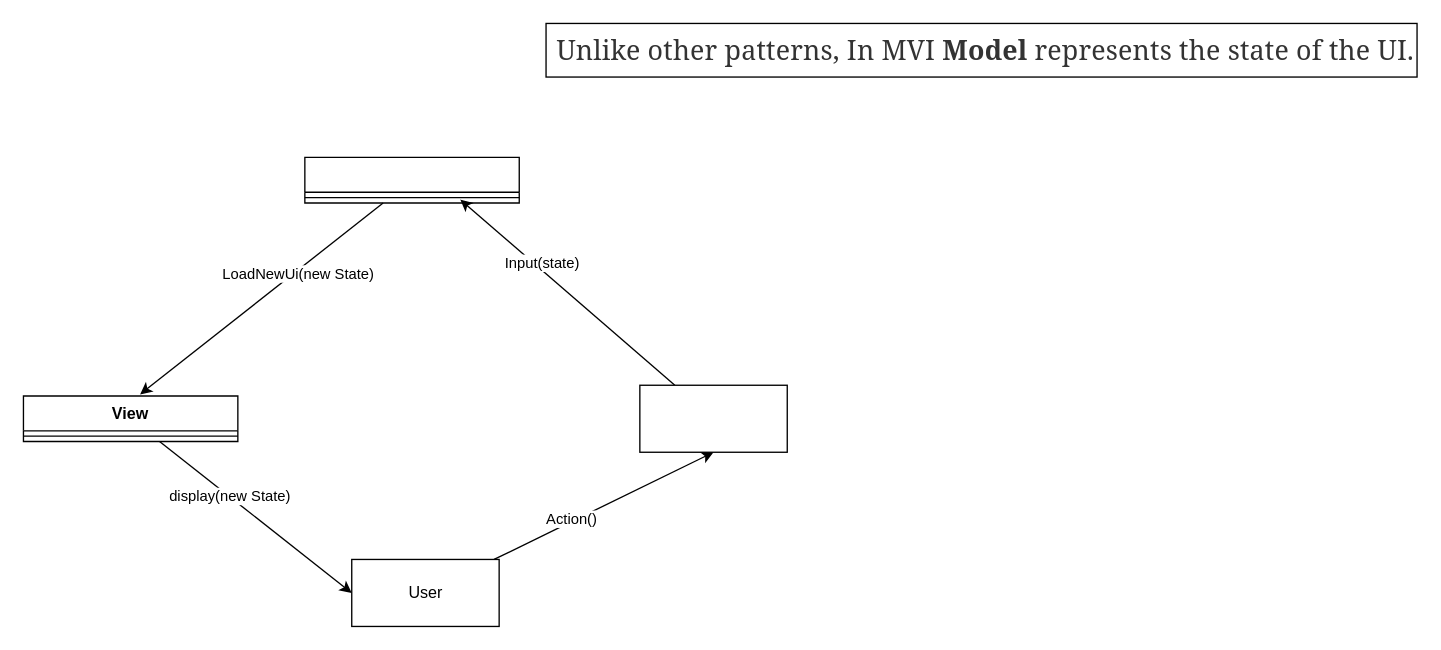
The diagram is 1441 pixels wide and 650 high, and some of its shapes have lost their labels. The box of each missing label's shape, as (x1, y1, x2, y2) in pixels:
Intent: (639, 384, 787, 452)
Model: (304, 156, 519, 203)
